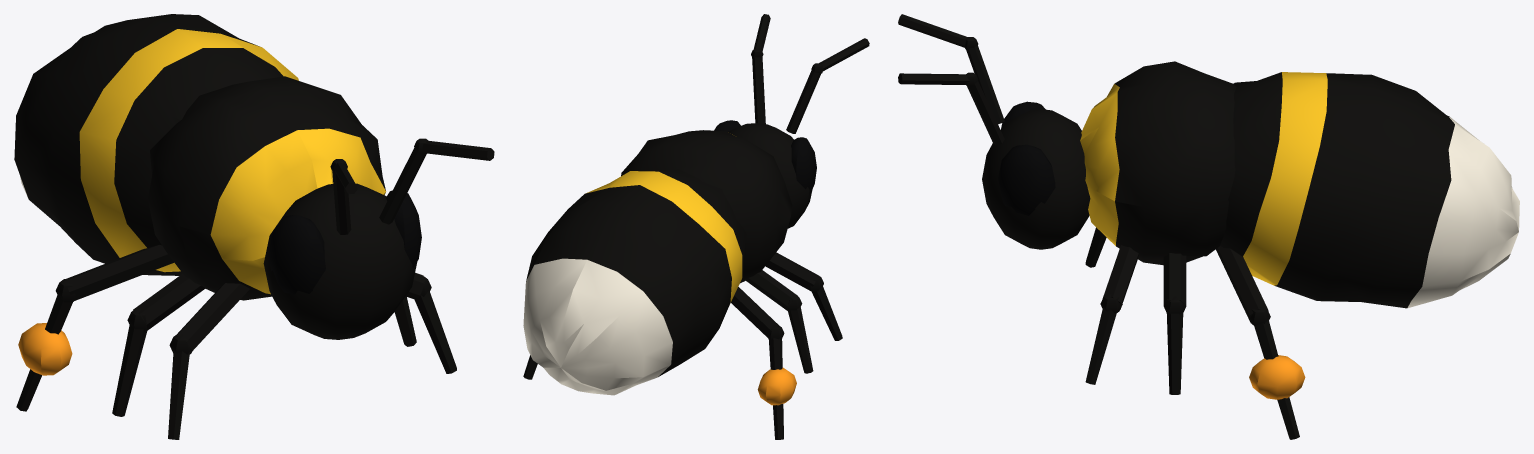
File: bumblebee_body.obj
3 renders of one model, left to right at view 1: azimuth 30°, elevation 25°; view 2: azimuth 150°, elevation 25°; view 3: azimuth 270°, elevation 25°, orthographic. The views are drawn at different scales.
Visible parts, largest first — view 1: bumblebee_body; view 2: bumblebee_body; view 3: bumblebee_body.
Boxes of the visible parts, x1,y1,x2,y2 form: bumblebee_body: (14,14,494,439); bumblebee_body: (523,14,869,439); bumblebee_body: (898,14,1519,439).
Size of the model in its own units: 0.2632 by 0.2512 by 0.4413.
